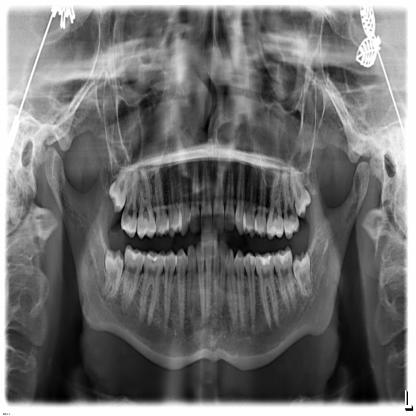canine: (178, 157, 191, 237), (234, 157, 247, 237), (226, 249, 238, 330), (186, 246, 197, 324)
cental incisor: (200, 156, 213, 234), (213, 156, 225, 232), (204, 240, 213, 320), (213, 242, 221, 317)
lareral incisor: (218, 244, 229, 323), (224, 161, 236, 231), (189, 158, 199, 233), (196, 242, 205, 324)
mandible: (44, 145, 371, 372)
maxilla: (105, 150, 316, 247)
molar: (139, 249, 166, 328), (120, 246, 144, 319), (255, 253, 279, 324), (273, 247, 298, 315), (136, 169, 158, 240), (266, 167, 285, 238), (283, 169, 301, 239), (121, 166, 138, 238), (100, 248, 123, 301), (109, 160, 130, 212), (291, 167, 313, 216), (293, 249, 313, 300)
premolar: (243, 154, 258, 240), (163, 250, 179, 329), (166, 169, 183, 241), (174, 246, 188, 328), (154, 169, 170, 237), (255, 167, 268, 239), (244, 254, 256, 331), (234, 249, 245, 330)
